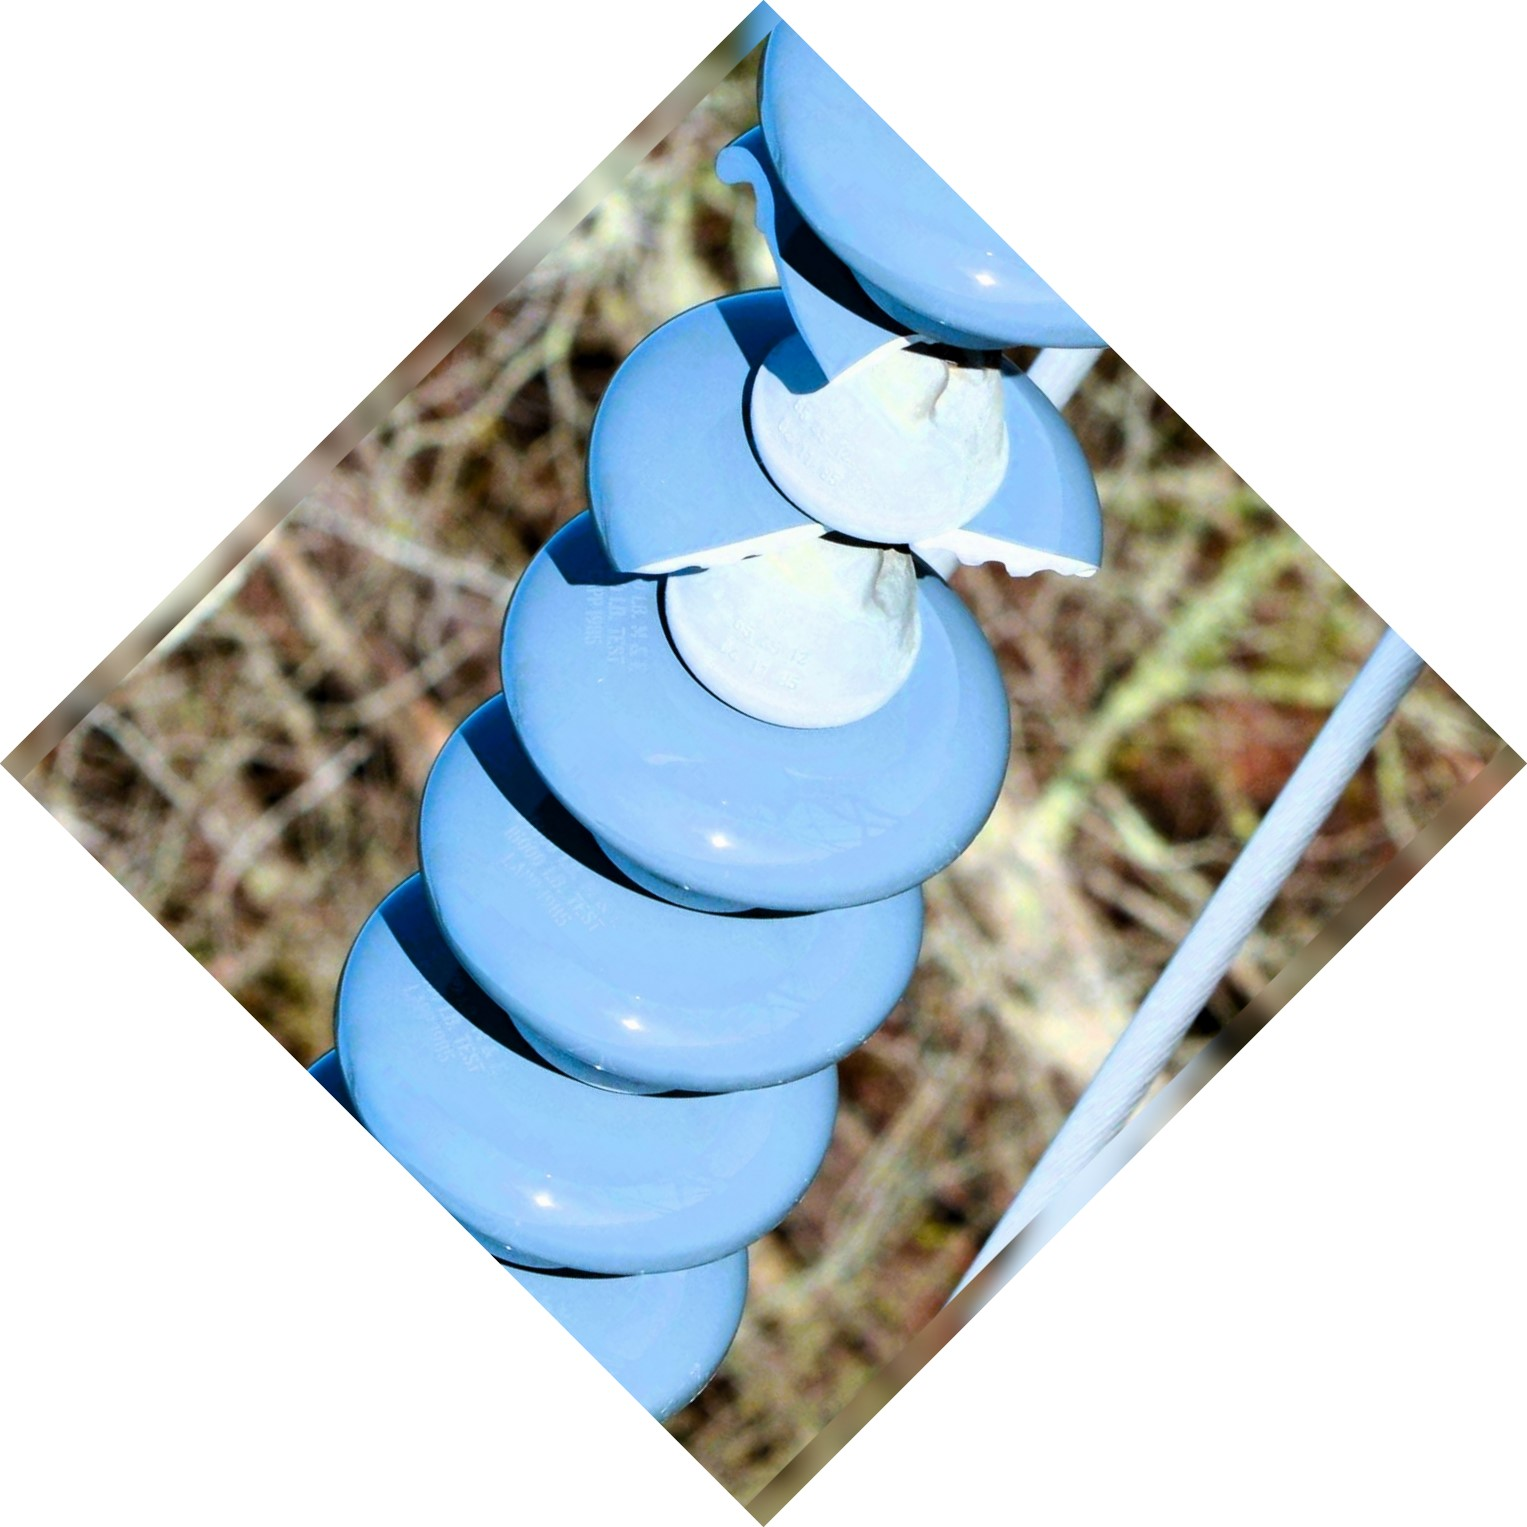insulator breakage: (587, 299, 1142, 614)
